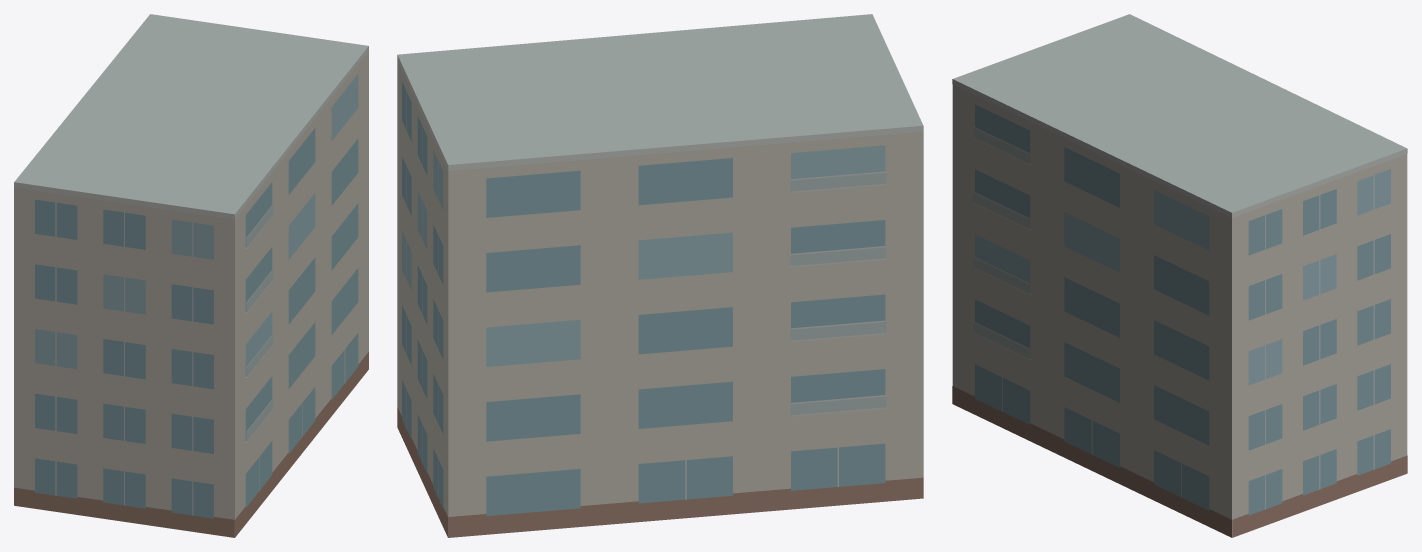
Rendered from survey-upis-32628481.glb.
3 renders of one model, left to right at view 1: azimuth 30°, elevation 25°; view 2: azimuth 150°, elevation 25°; view 3: azimuth 270°, elevation 25°, orthographic. The views are drawn at different scales.
Visible parts, largest first — view 1: survey-upis-32628481.tmp; view 2: survey-upis-32628481.tmp; view 3: survey-upis-32628481.tmp.
Part boxes in pixels (left/top/right/bottom): survey-upis-32628481.tmp: left=14, top=14, right=368, bottom=537; survey-upis-32628481.tmp: left=397, top=14, right=923, bottom=537; survey-upis-32628481.tmp: left=952, top=14, right=1407, bottom=537.
Bounding box in the file's own units: 20.02 × 15.25 × 19.35.
